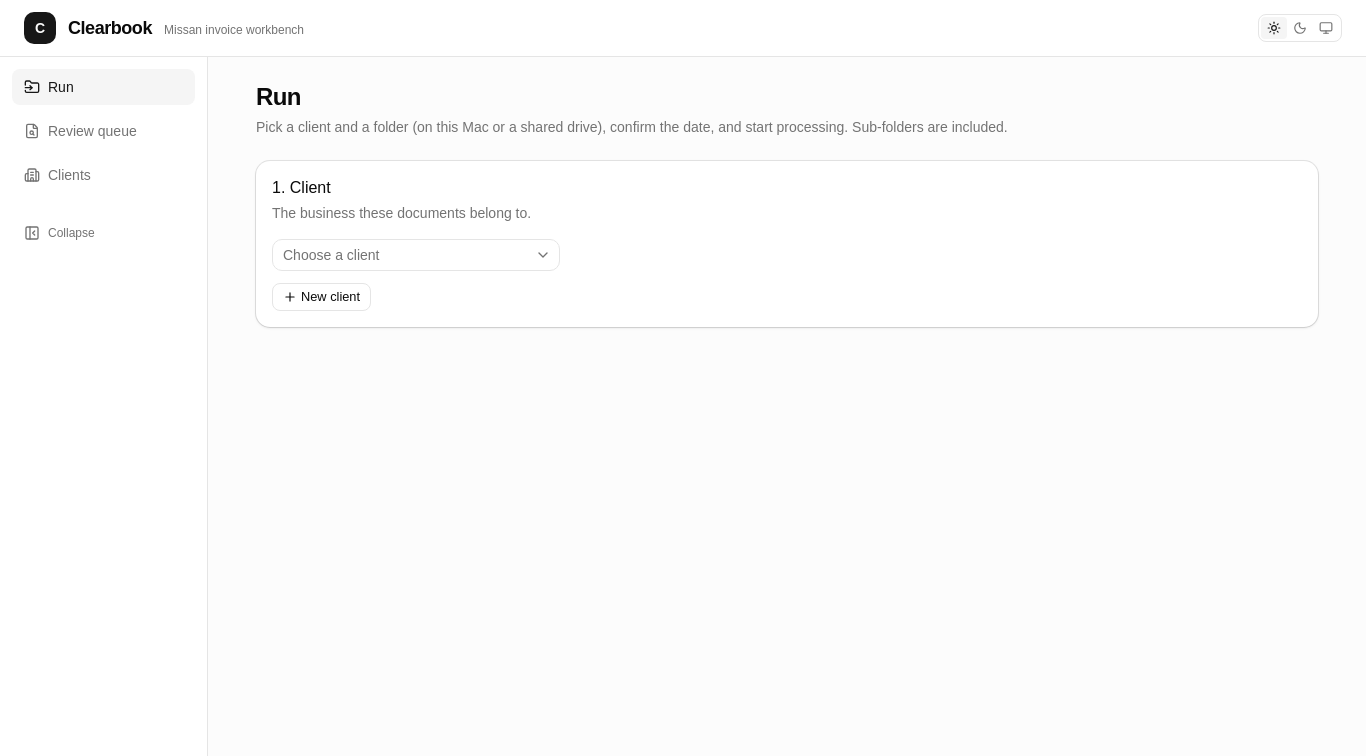
it: run screen › goes back up with the folder path and uses the month end for a month folder
The width and height of the screenshot is (1366, 756).
Click the dropdown labelled "client" at (331, 255), box [272,239,560,271]
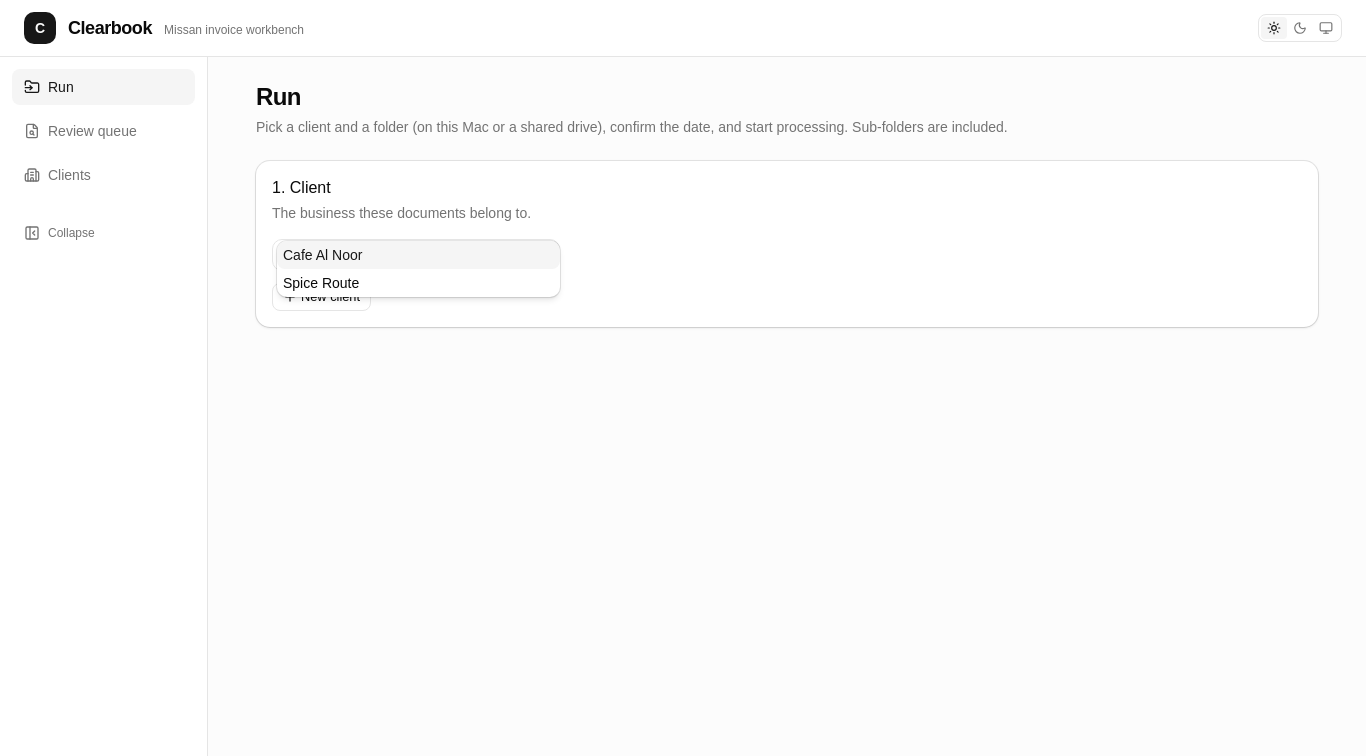
Click the option "Cafe Al Noor" at (323, 255), box [277,241,560,269]
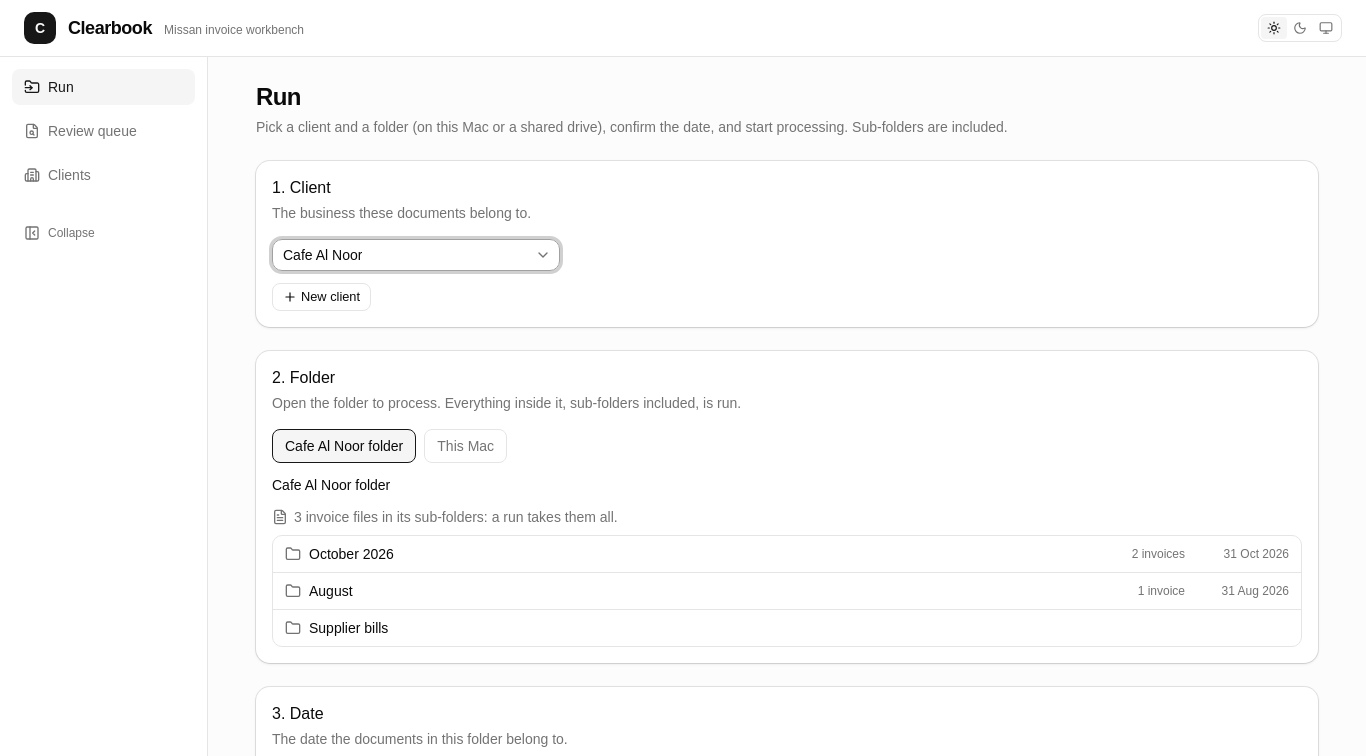
Click the button "October 2026 2 invoices 31 Oct 2026" at (351, 554), box [273,536,1301,572]
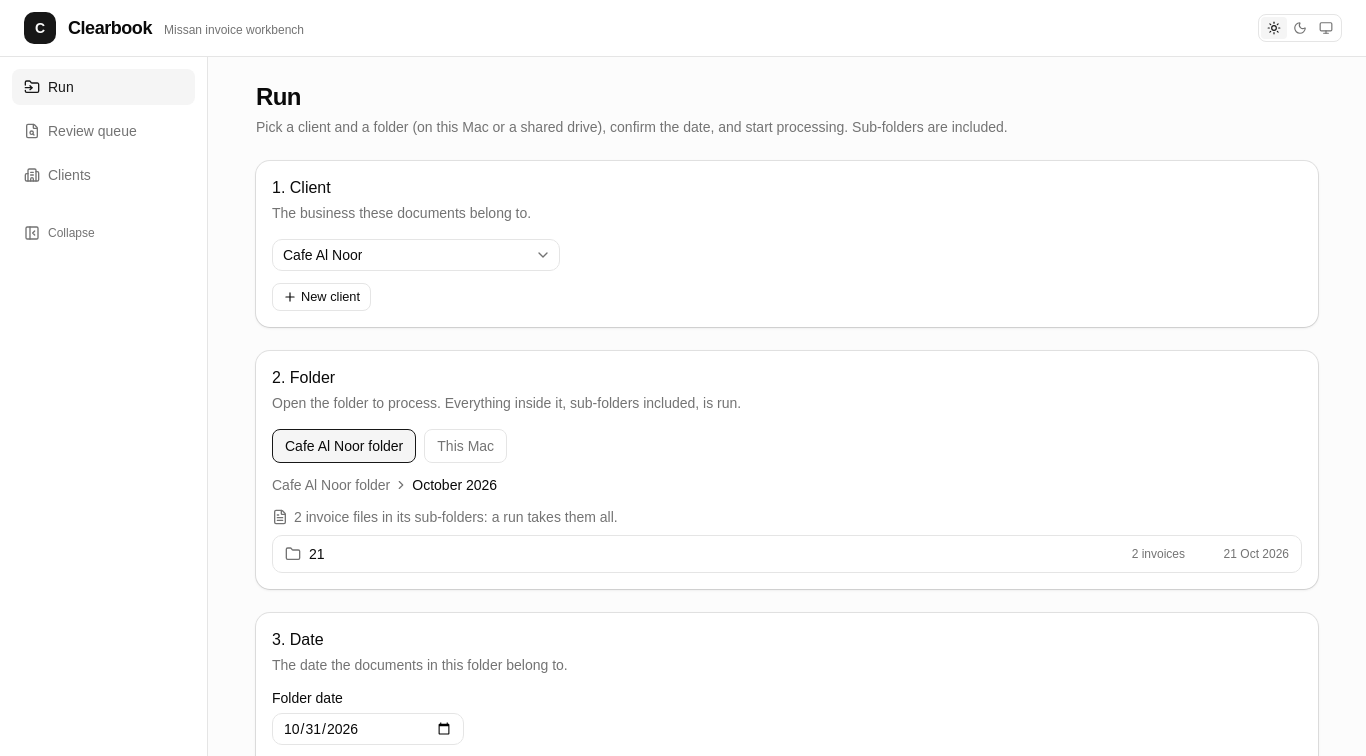
Click the button "21 2 invoices 21 Oct 2026" at (1158, 554), box [273,536,1301,572]
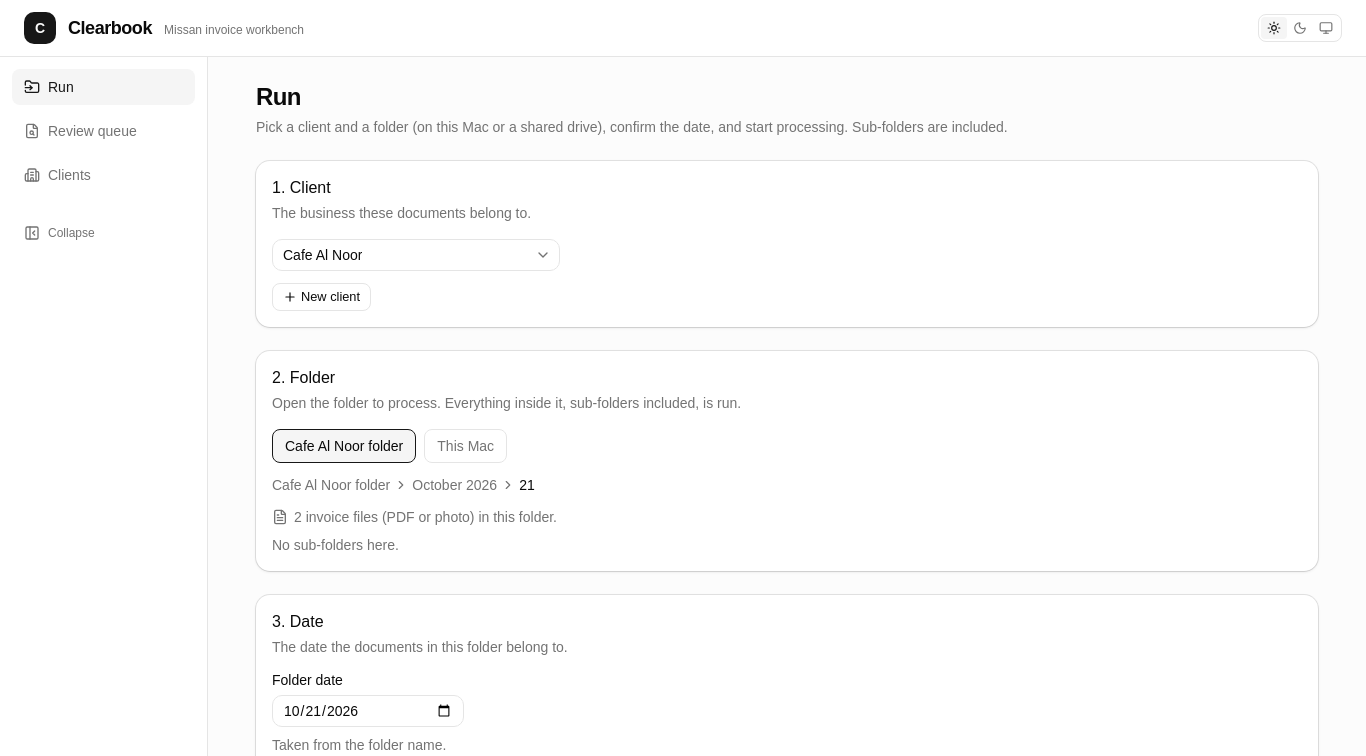
Click the button "October 2026" at (455, 485), box [412,475,497,495]
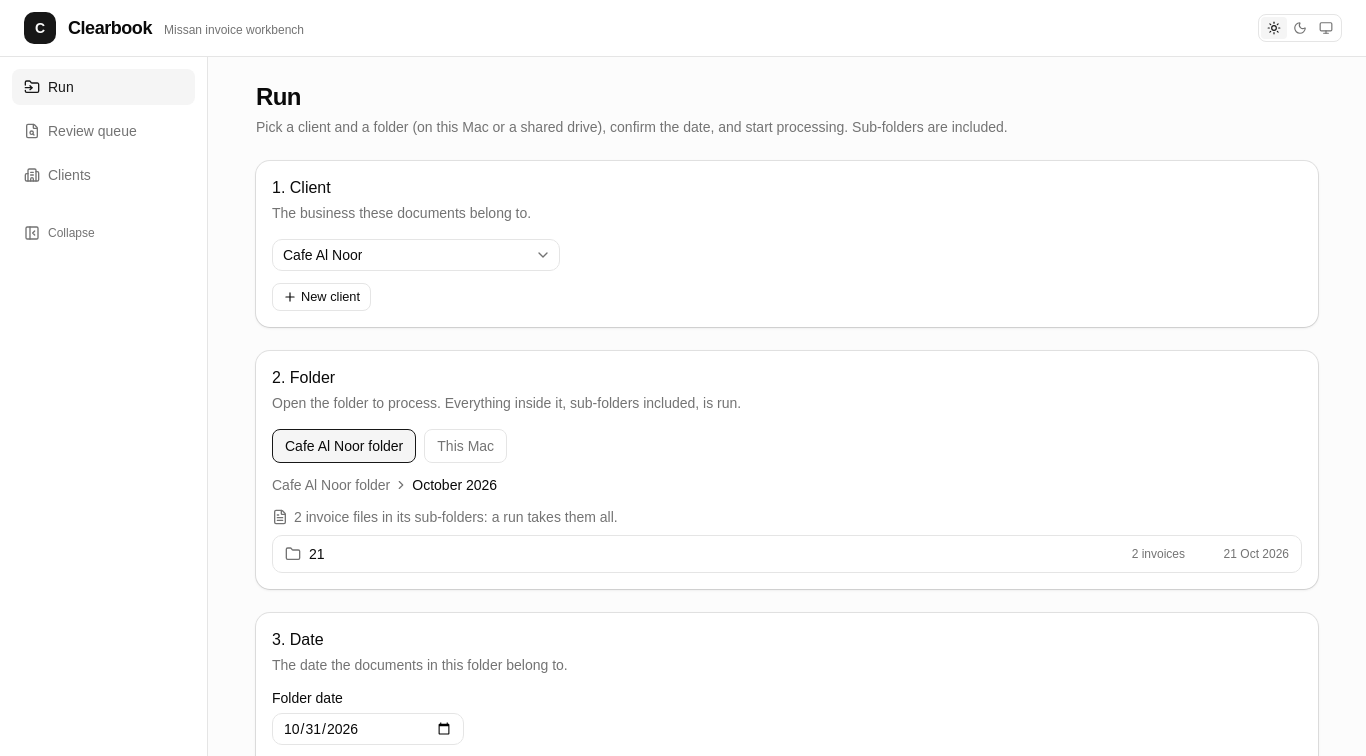
Result: the date field labelled "Folder date" holds "2026-10-31" at [272,713,464,745]
Result: the button "21 2 invoices 21 Oct 2026" is shown at [273,536,1301,572]
